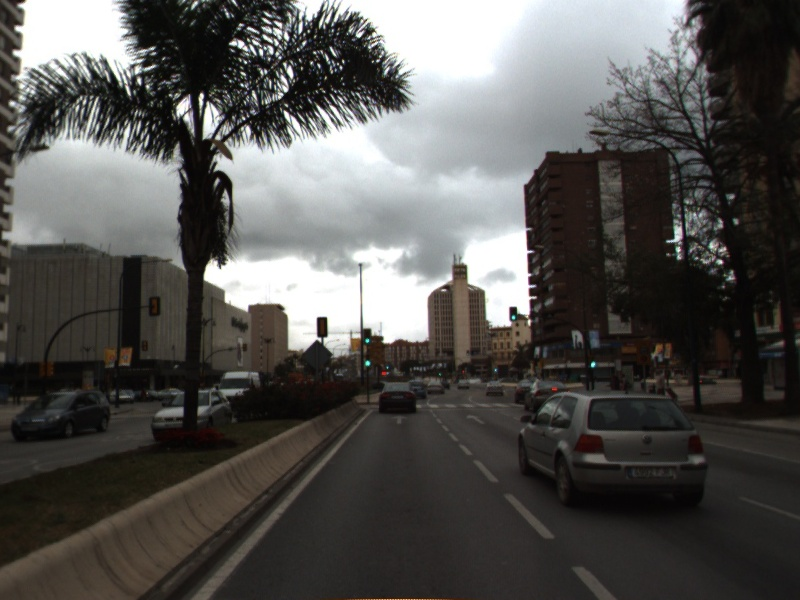STRAIGHT: (464, 412, 488, 426), (390, 413, 410, 426)
